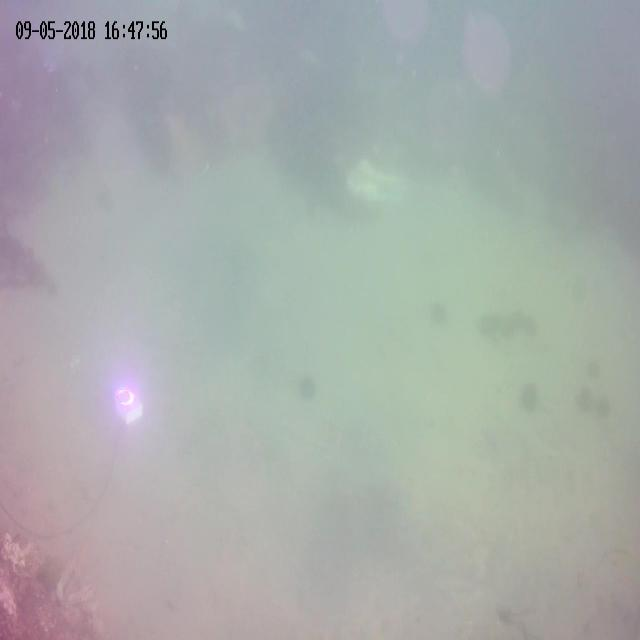echinus: (499, 310, 519, 341), (430, 295, 448, 329), (477, 308, 497, 336), (300, 368, 316, 400), (578, 383, 593, 417), (521, 379, 536, 411), (524, 312, 539, 341), (570, 274, 586, 301), (599, 395, 611, 421), (588, 360, 600, 379)
